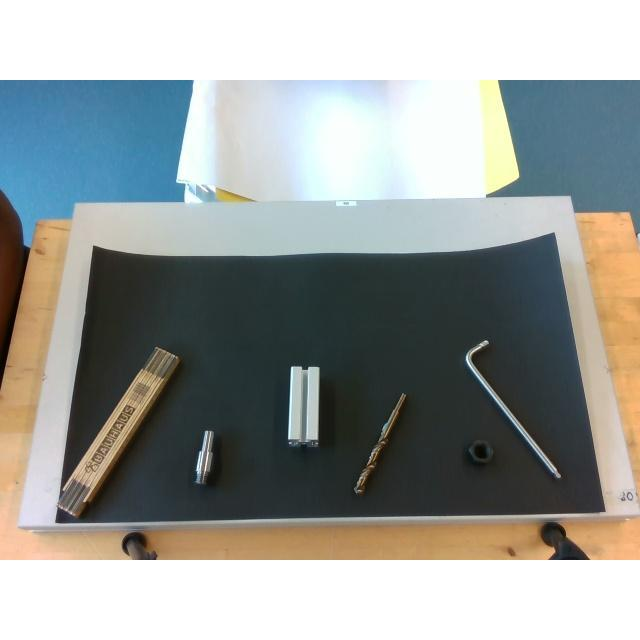AllenKey: (465, 339, 561, 479)
Axis2: (194, 430, 214, 484)
Drill: (354, 392, 406, 496)
M30: (467, 441, 493, 464)
S40_40_G: (288, 366, 320, 446)
